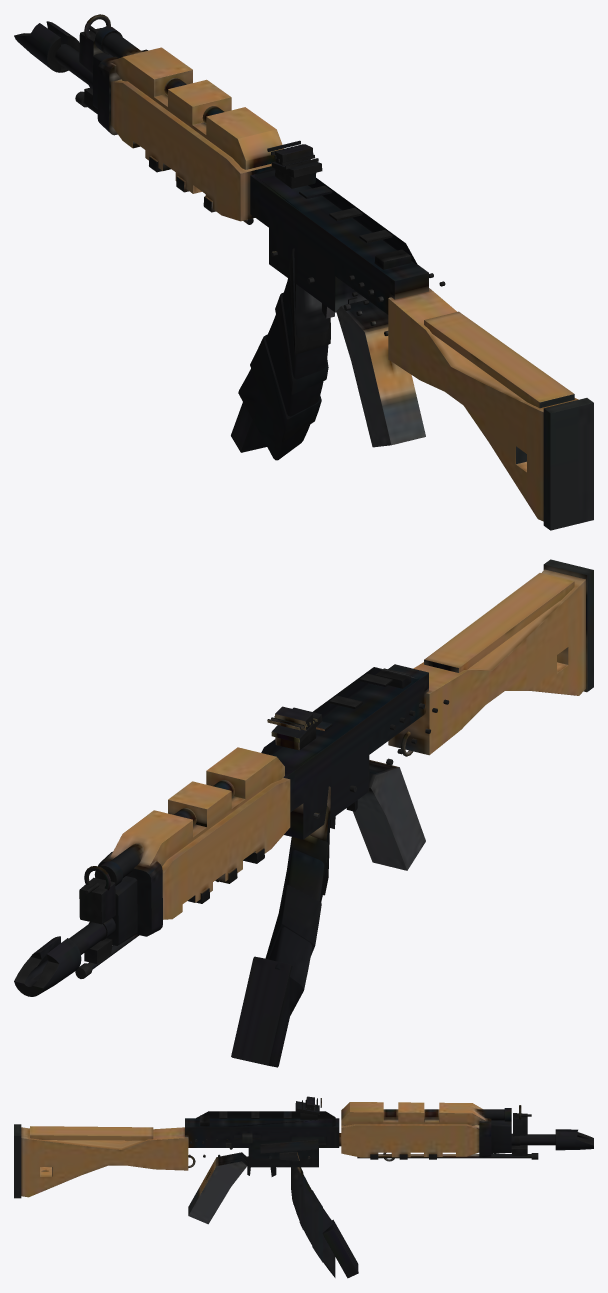
The model's file is W_rifle_ak.glb.
The picture shows the model from 3 angles, top to bottom: view 1: azimuth 30°, elevation 25°; view 2: azimuth 150°, elevation 25°; view 3: azimuth 270°, elevation 25°; orthographic projection. The views are drawn at different scales.
Parts seen in each view (by area): view 1: W_rifle_ak; view 2: W_rifle_ak; view 3: W_rifle_ak.
Boxes of the visible parts, x1,y1,x2,y2 form: W_rifle_ak: (14, 14, 593, 530); W_rifle_ak: (14, 559, 593, 1067); W_rifle_ak: (14, 1096, 593, 1278).
Bounding box in the file's own units: 0.0736 × 0.2896 × 0.865.
Materials: 1 (1 with a texture image).
